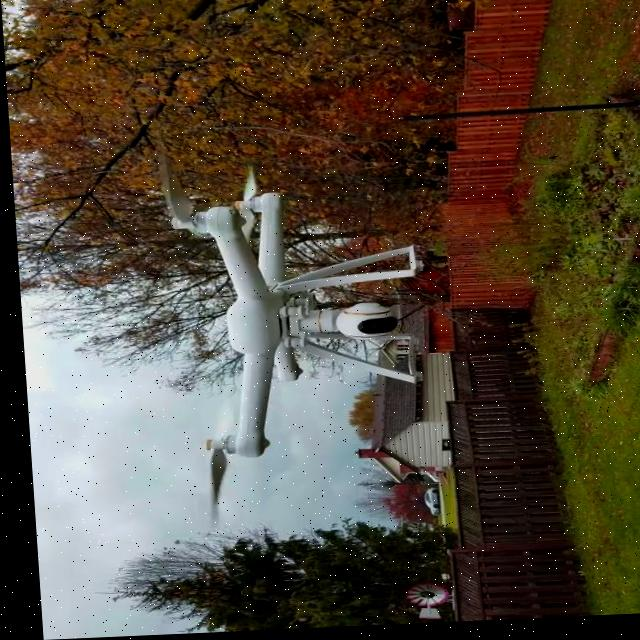drone: (131, 151, 371, 513)
